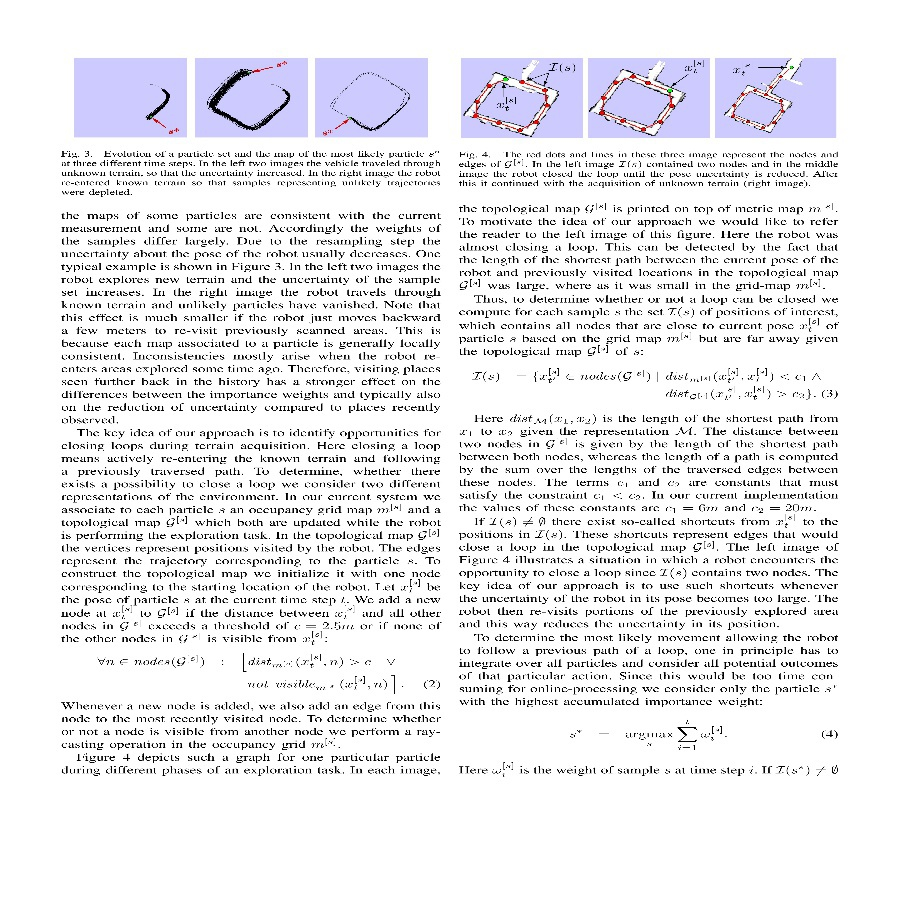eq: (97, 650, 398, 697), (471, 364, 823, 404), (564, 716, 737, 753)
